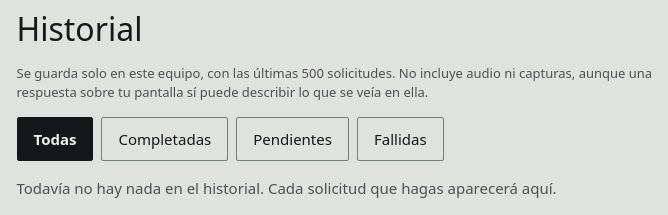
Test case: Historial: lectura › el estado vacío depende del filtro
The image size is (668, 215).
Expected: the text "Todavía no hay nada en el historial" is shown, [16,178,557,198]
Click the button "Fallidas".
click(400, 140)  # box [357,118,444,162]
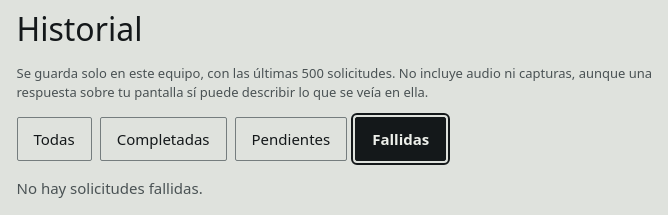
Result: the text "No hay solicitudes fallidas." is shown at [16,178,203,198]
